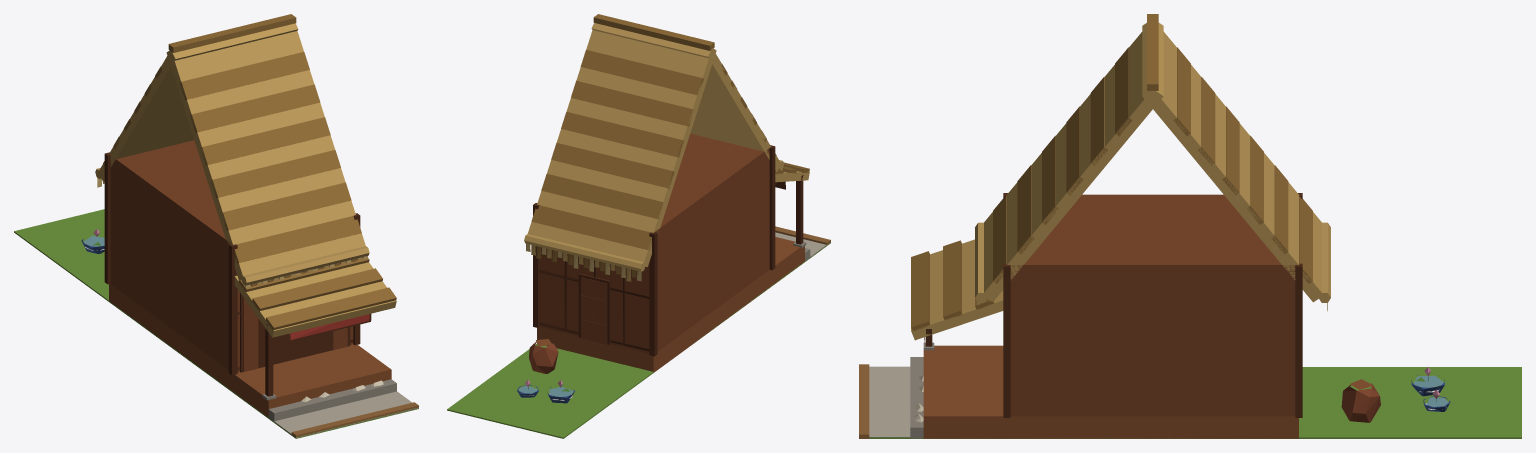
Rendered from bay2_mid.glb.
The picture shows the model from 3 angles, left to right: view 1: azimuth 30°, elevation 25°; view 2: azimuth 150°, elevation 25°; view 3: azimuth 270°, elevation 25°; orthographic projection. The views are drawn at different scales.
Visible parts, largest first — view 1: body; view 2: body; view 3: body.
Part boxes in pixels (x1,y1,x2,y2): body: (14, 14, 418, 438); body: (447, 14, 830, 438); body: (859, 14, 1521, 438).
Size of the model in its own units: 4.18 by 9.39 by 15.9.
